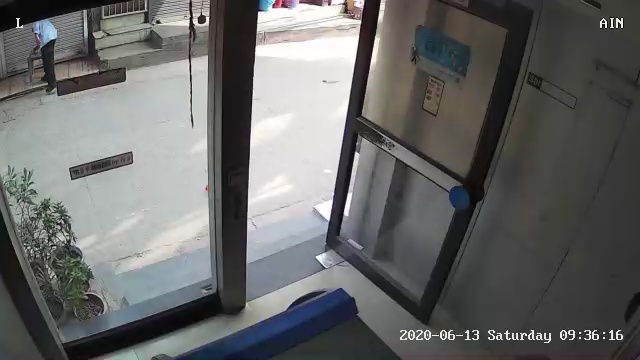open: (186, 7, 550, 326)
